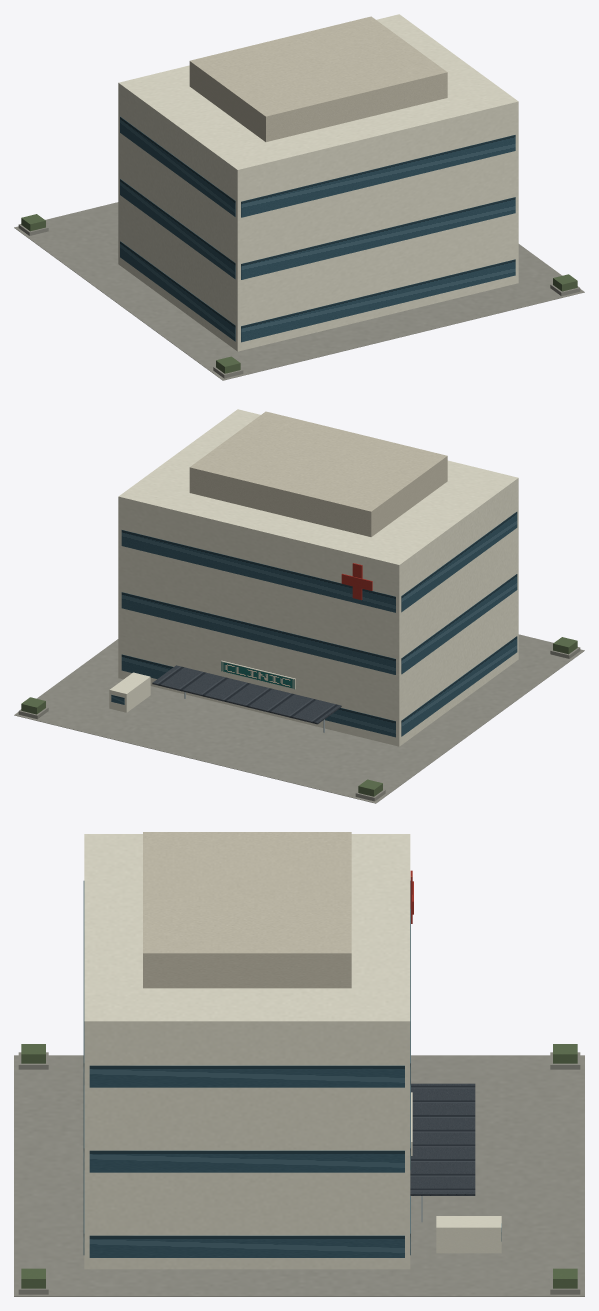
File: hospital_001.lod1.obj
3 views of the same model, one above another, from view 1: azimuth 30°, elevation 25°; view 2: azimuth 150°, elevation 25°; view 3: azimuth 270°, elevation 25° (orthographic). The views are drawn at different scales.
Visible parts, largest first — view 1: hospital_001.lod1; view 2: hospital_001.lod1; view 3: hospital_001.lod1.
Part boxes in pixels (left/top/right/bottom): hospital_001.lod1: left=14, top=14, right=584, bottom=380; hospital_001.lod1: left=14, top=409, right=584, bottom=803; hospital_001.lod1: left=14, top=832, right=584, bottom=1296.
Bounding box in the file's own units: 43.8 × 24 × 43.8.
Materials: 1 (1 with a texture image).
